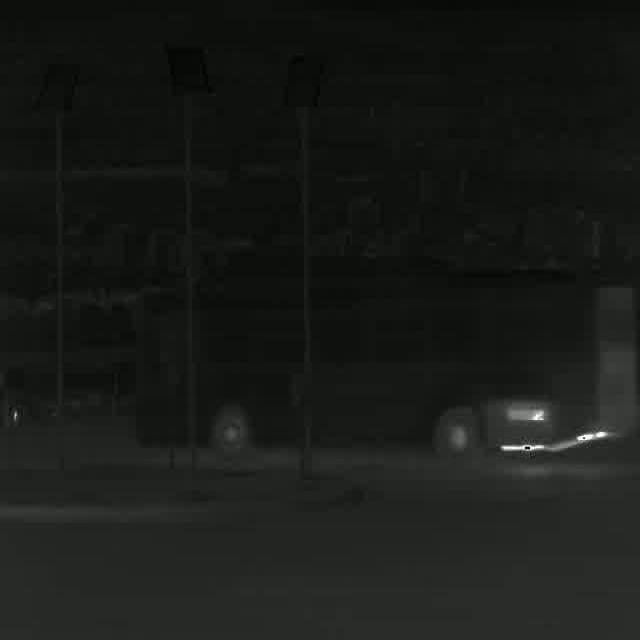Bus: (134, 256, 637, 459)
